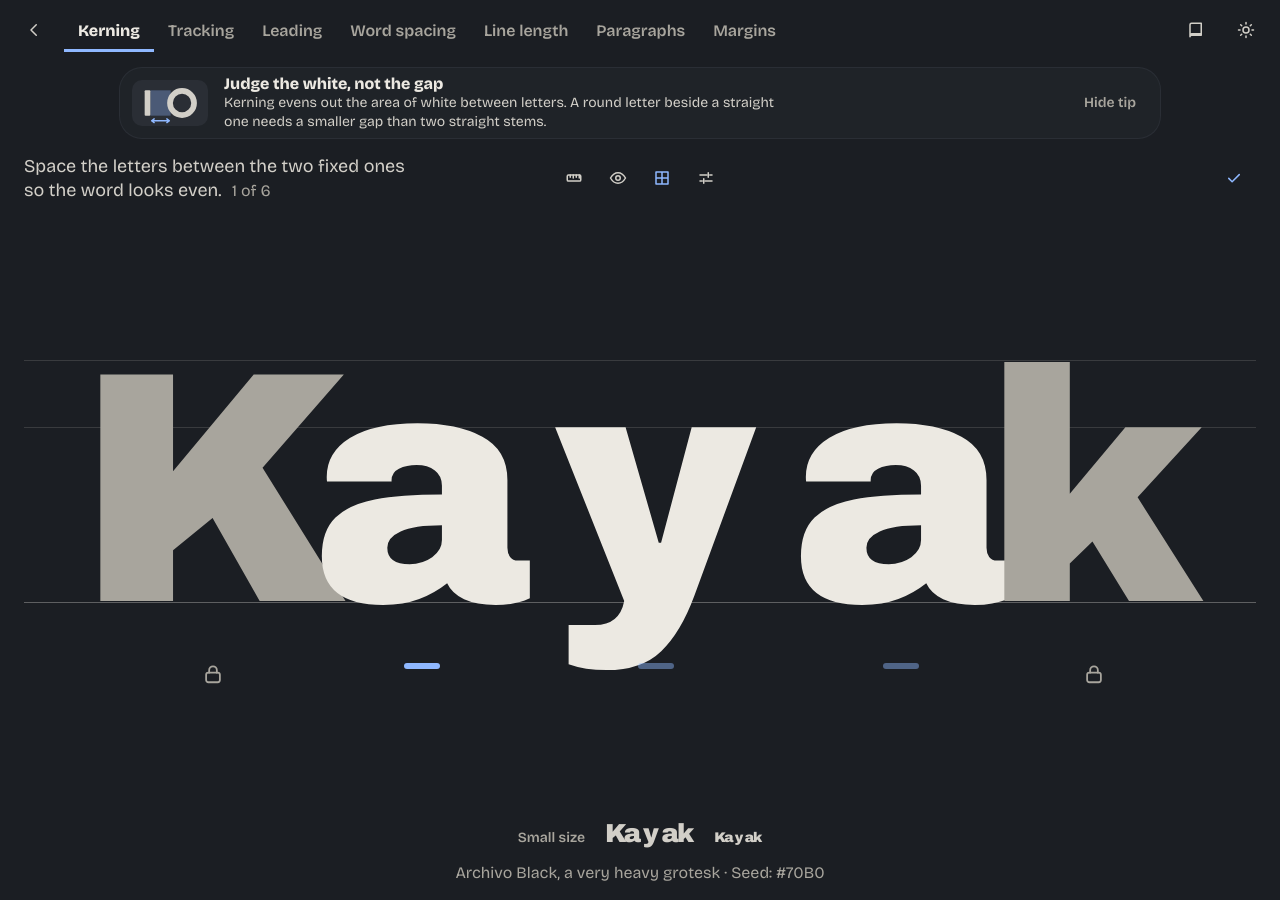
Test: the work area › shows a tip and a small size preview, and the tip can be hidden
Check: the heading "Judge the white, not the gap" is shown, box x1=224 y1=74 x2=443 y2=93
Check: the element with class "dp-preview" is shown, box x1=518 y1=820 x2=762 y2=846
Click the button "Hide tip": coordinates (1110, 103) x1=1072 y1=81 x2=1148 y2=125
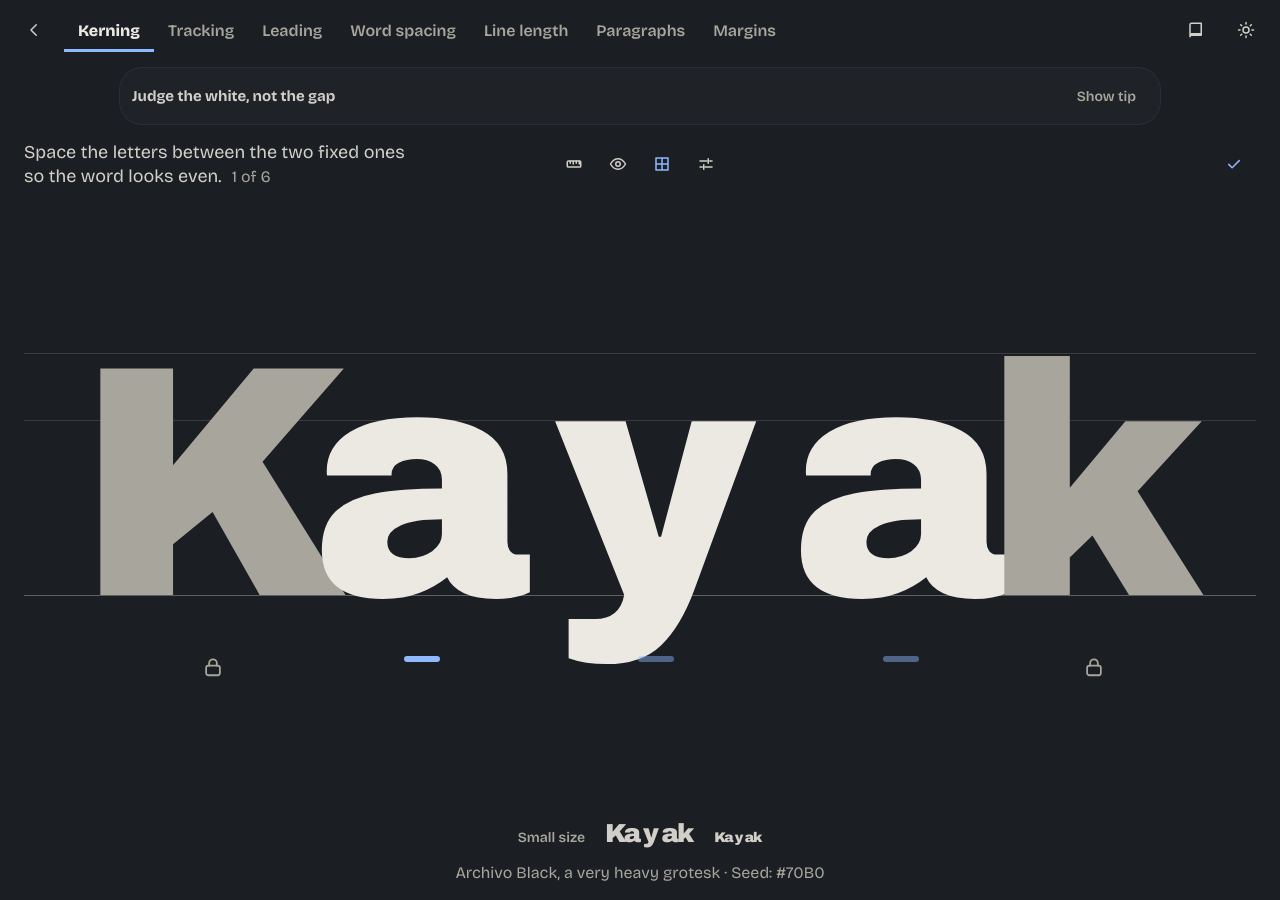
Check: the text "Kerning evens out the area of white between letters. A round letter beside a straight one needs a smaller gap than two s" is gone
Check: the button "Show tip" is shown, box x1=1065 y1=74 x2=1148 y2=118
